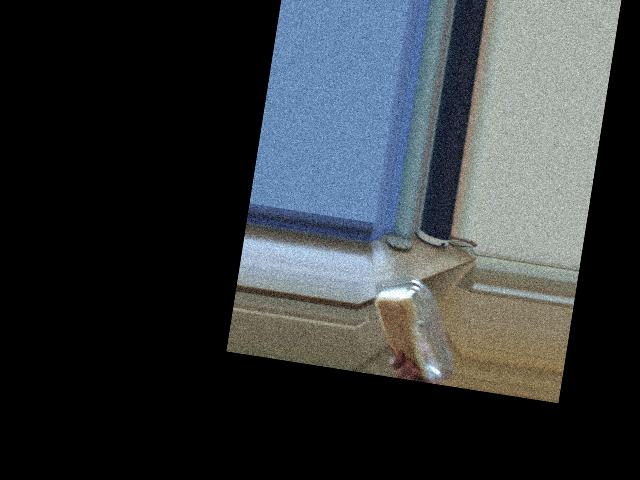cheese: (379, 283, 450, 347)
